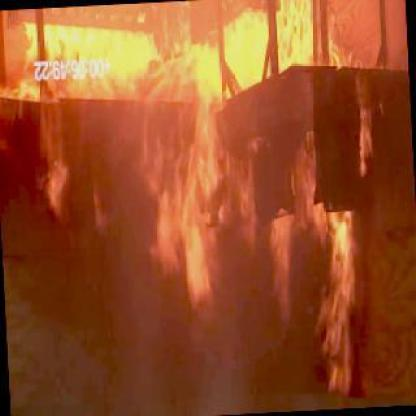Fire: (10, 0, 356, 317), (306, 210, 362, 396)
